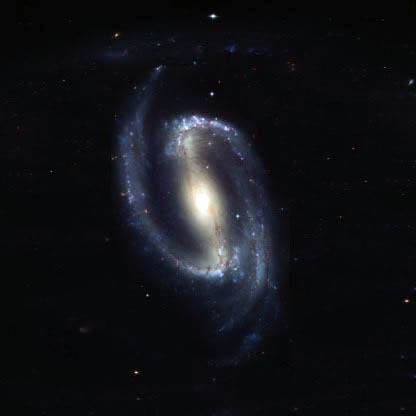NGC 1300: (109, 43, 297, 370)
